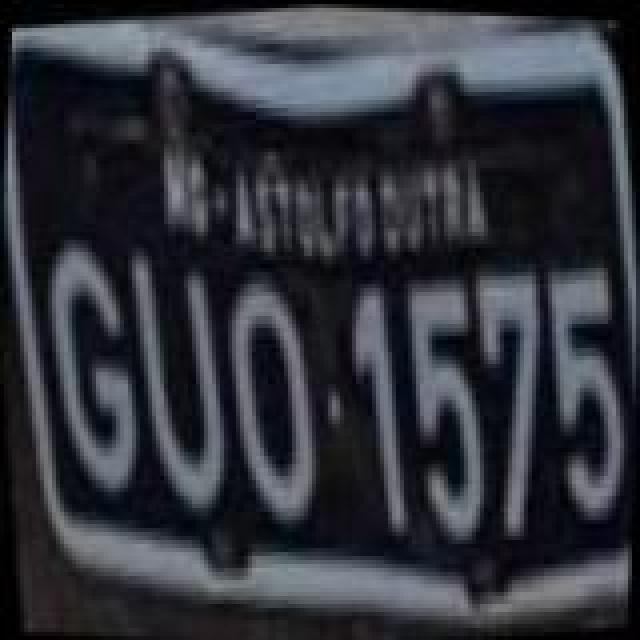1: (338, 266, 422, 546)
5: (392, 266, 496, 554), (534, 254, 638, 530)
7: (464, 252, 568, 540)
G: (32, 228, 152, 512)
O: (212, 262, 332, 542)
U: (118, 228, 242, 520)
